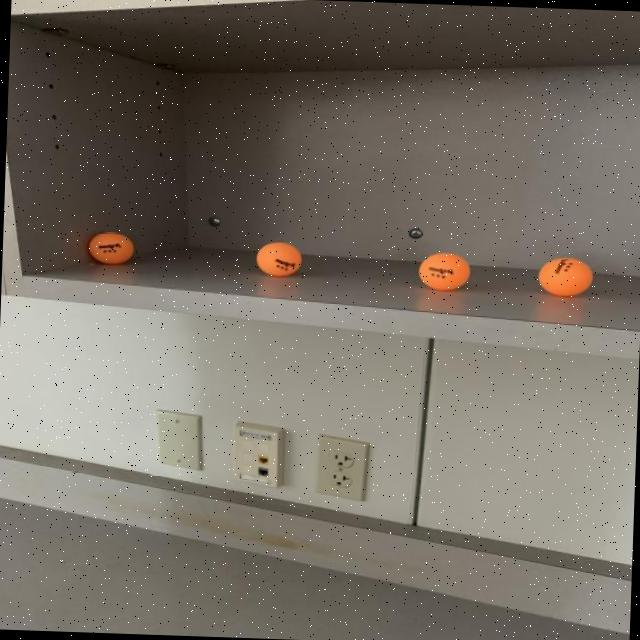ping-pong-ball: (532, 250, 600, 302), (414, 246, 475, 292), (254, 238, 305, 282), (86, 225, 136, 267)
